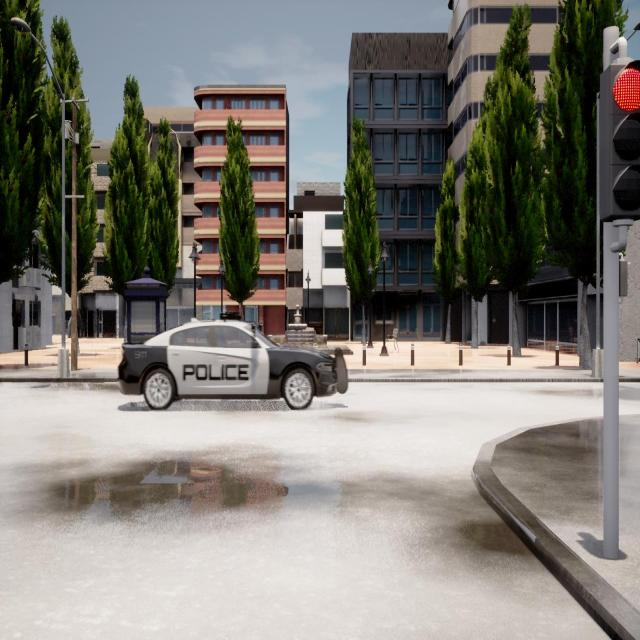Vehicle: (118, 320, 338, 409)
traffic_light: (600, 68, 640, 221), (617, 260, 629, 298)
